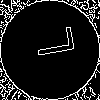L: (25, 25, 75, 60)
